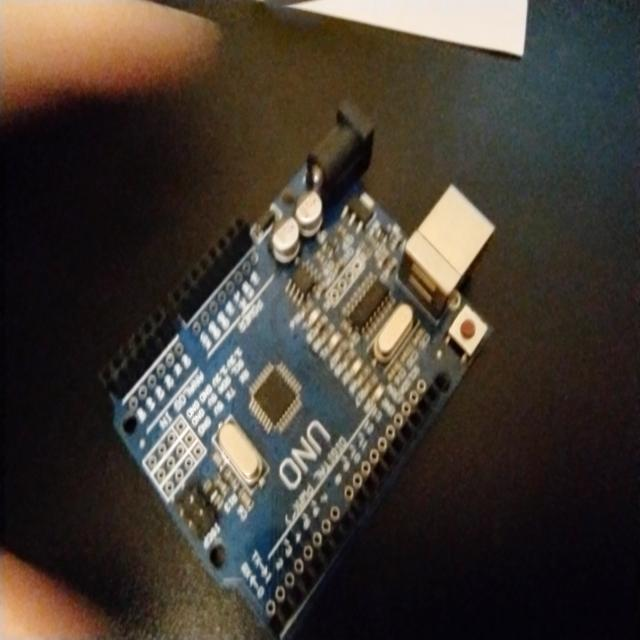arduino: (82, 100, 499, 640)
